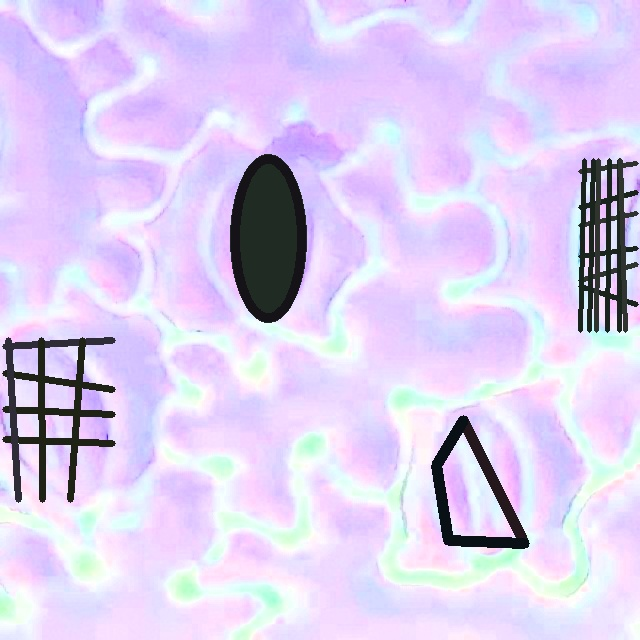close: (432, 415, 528, 545)
open: (2, 337, 115, 502), (231, 155, 306, 322), (578, 158, 637, 332)
